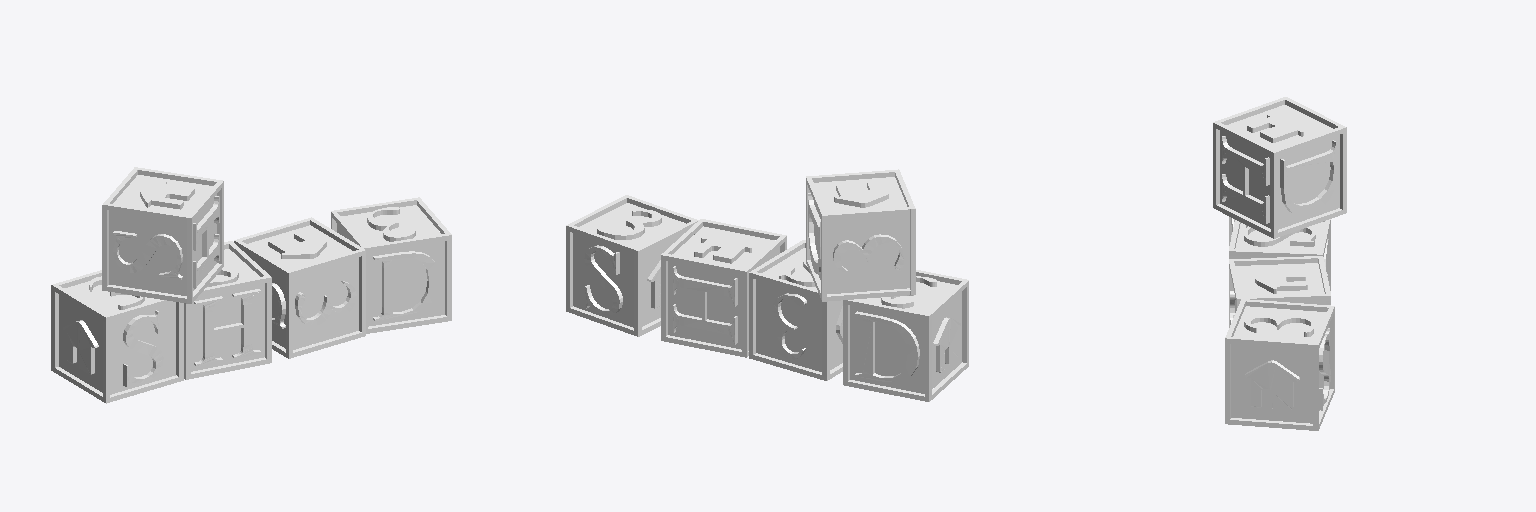
The picture shows the model from 3 angles: view 1: azimuth 30°, elevation 25°; view 2: azimuth 150°, elevation 25°; view 3: azimuth 270°, elevation 25°; orthographic projection.
Parts seen in each view (by area): view 1: letter-cubes; view 2: letter-cubes; view 3: letter-cubes.
Boxes of the visible parts, x1,y1,x2,y2 form: letter-cubes: [51, 167, 451, 403]; letter-cubes: [566, 169, 968, 401]; letter-cubes: [1213, 97, 1346, 430].
Size of the model in its own units: 0.7667 by 0.3441 by 0.2428.
Materials: 3 (1 with a texture image).